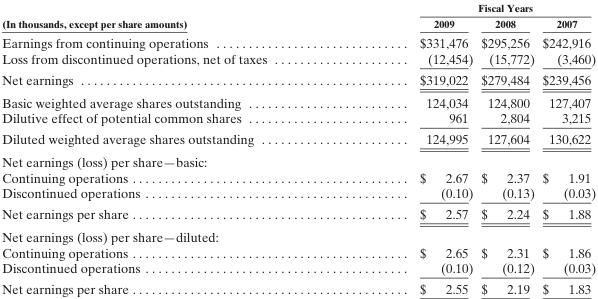table: (1, 1, 595, 296)
table column: (1, 1, 342, 296), (342, 1, 476, 296), (476, 1, 537, 296), (537, 1, 595, 296)
table column header: (1, 1, 595, 32)
table projected row header: (1, 150, 595, 169), (1, 225, 595, 244)
table row: (1, 68, 595, 90), (1, 128, 595, 150), (1, 203, 595, 225), (1, 90, 595, 110), (1, 150, 595, 169), (1, 225, 595, 244), (1, 259, 595, 278), (1, 32, 595, 50), (1, 50, 595, 68), (1, 110, 595, 128), (1, 185, 595, 203), (1, 278, 595, 296), (1, 15, 595, 32), (1, 169, 595, 185), (1, 244, 595, 259), (1, 1, 595, 15)
table spanning cell: (1, 1, 342, 32), (342, 1, 595, 15)
